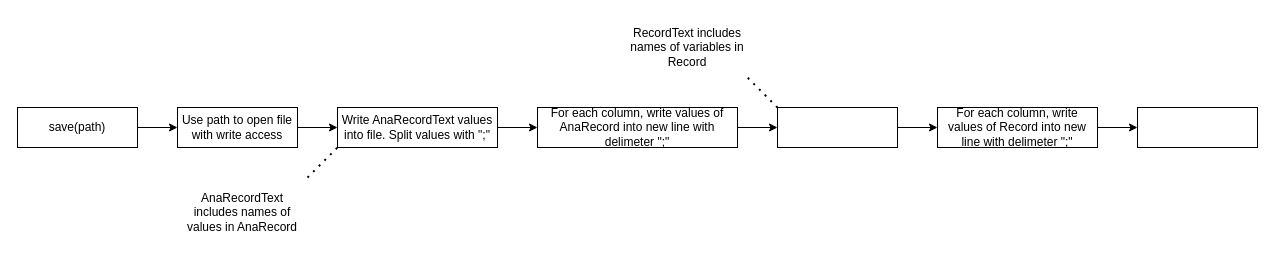
This 1275x264 diagram has some shape labels left out. The shapes that lost their labels are listed below. From the top down, each one's centre as x and y in pixels, then its label:
(837,127): Write values of RecordText into new line with delimeter ";"
(1197,127): Close and save file
